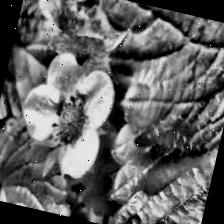Blossom Blight: (45, 88, 97, 154)
